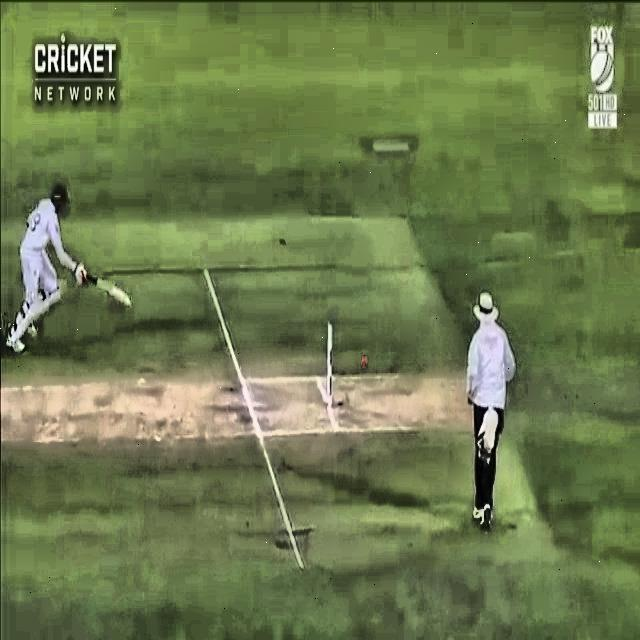Ball: (358, 353, 371, 376)
Bat: (67, 261, 134, 312)
Pitch_Line: (198, 269, 307, 569)
Undis_Wicket: (307, 303, 342, 410)
